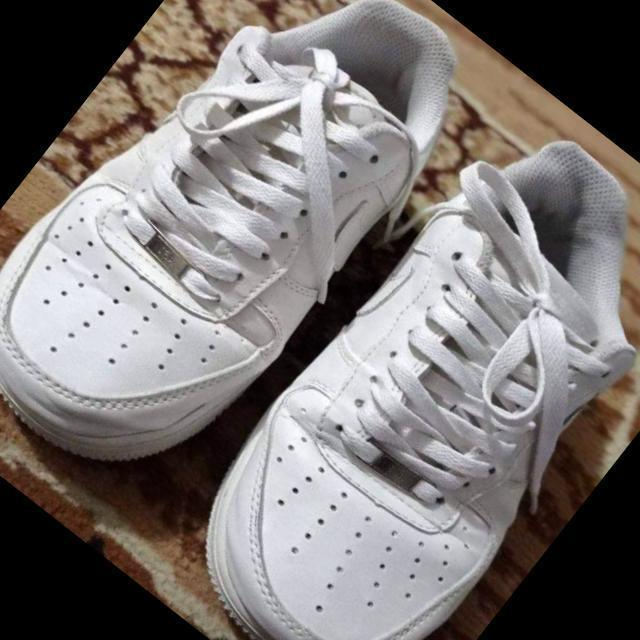nike fake air force: (141, 87, 640, 640), (0, 0, 515, 531)
